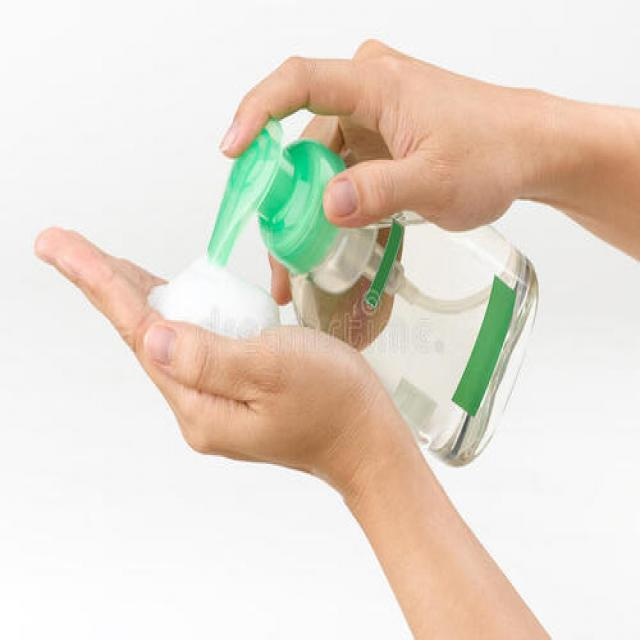sanitizer: (200, 110, 532, 457)
